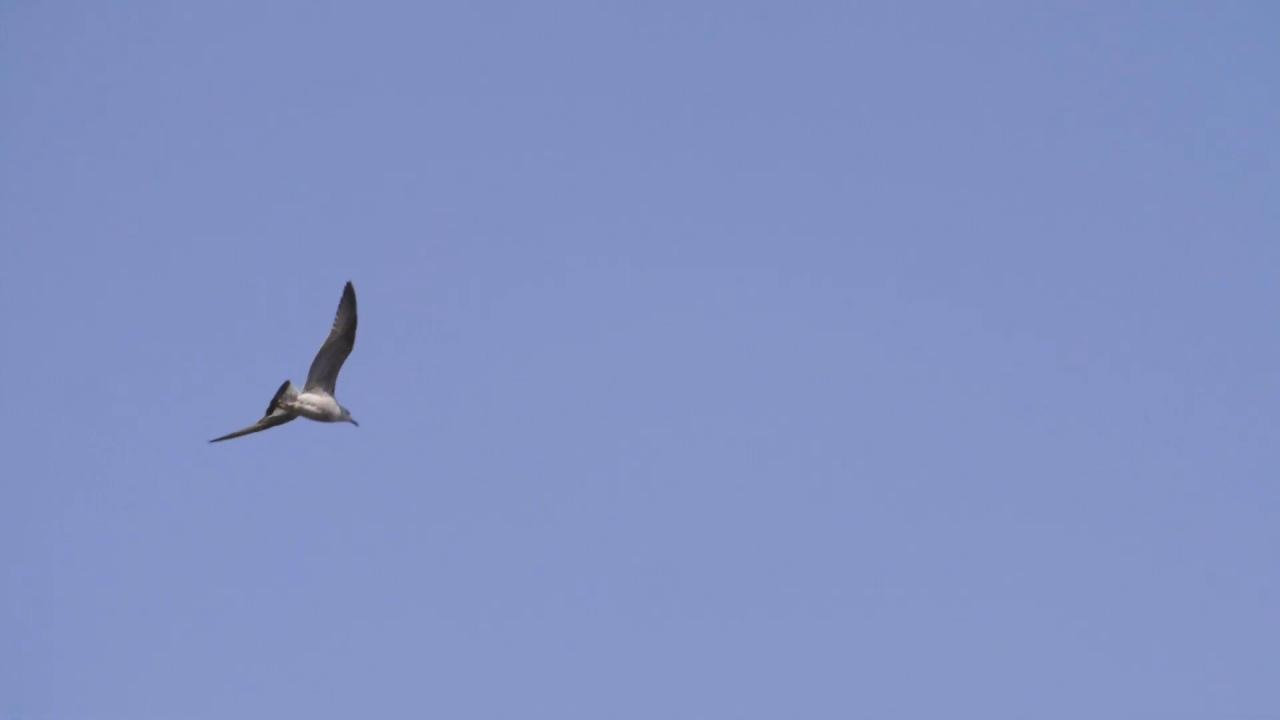Bird: (188, 266, 389, 464)
